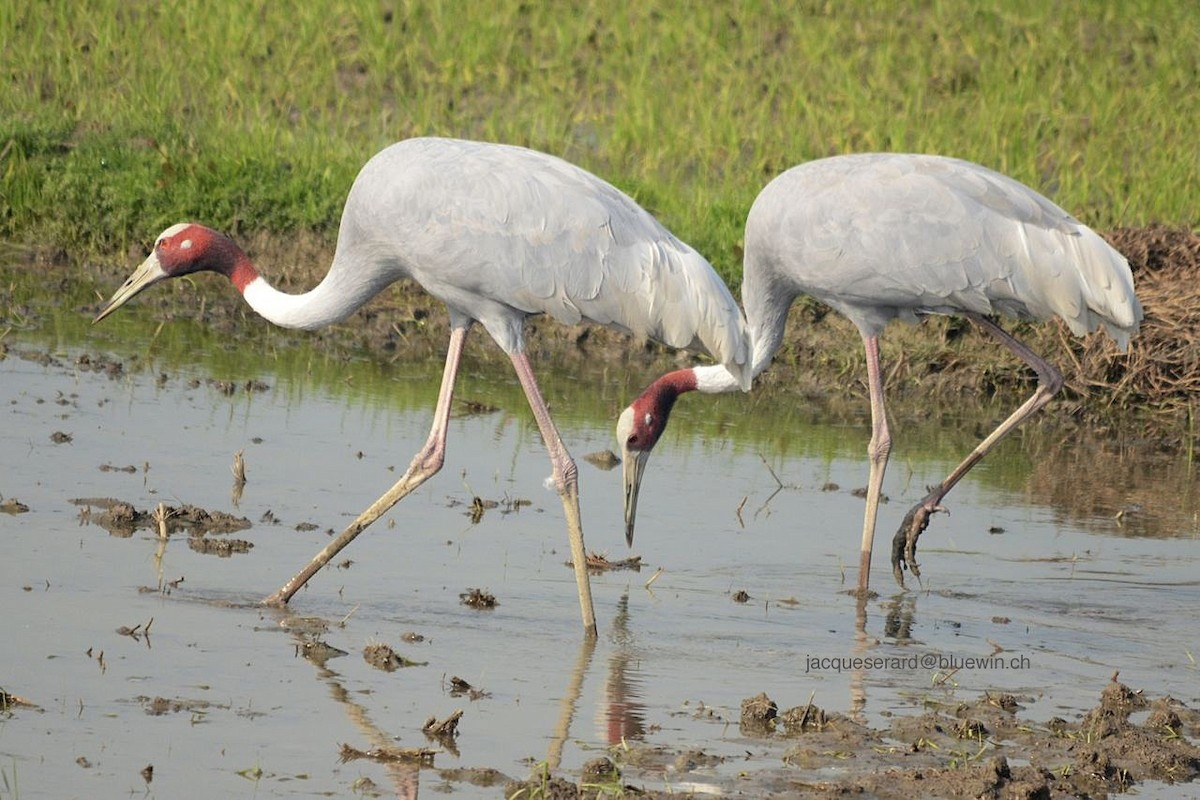crane: (80, 131, 753, 665), (617, 146, 1142, 622)
